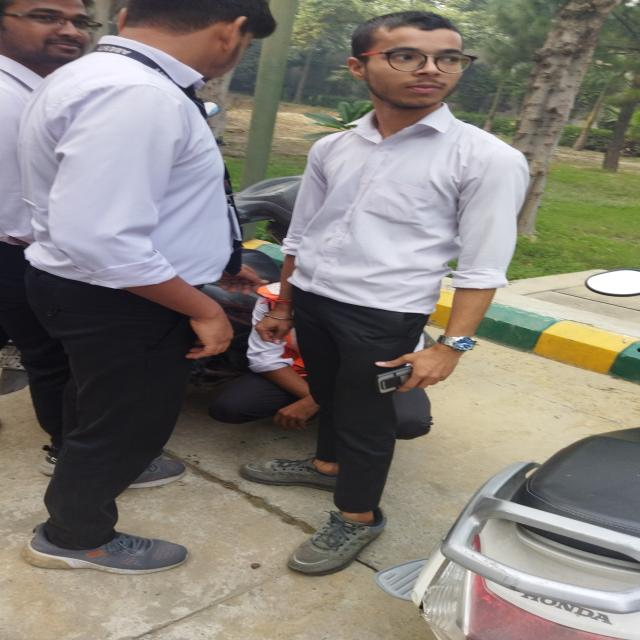unsafe: (311, 13, 527, 592), (49, 0, 258, 586)
